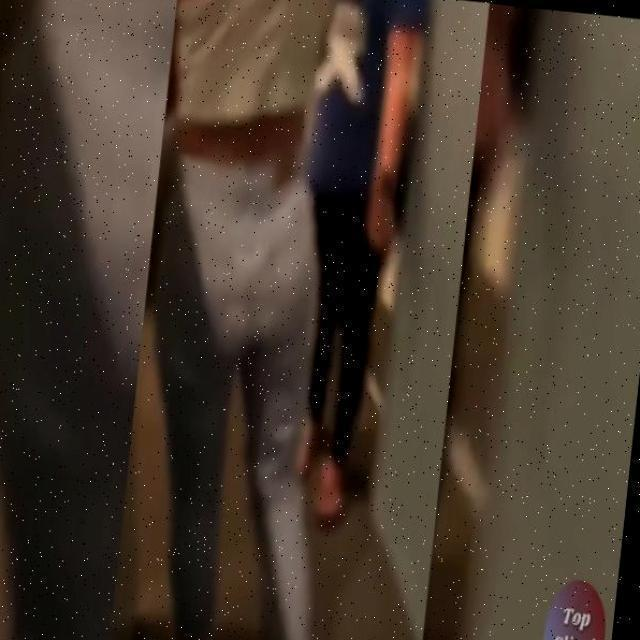person: (111, 0, 383, 640), (267, 0, 430, 521)
